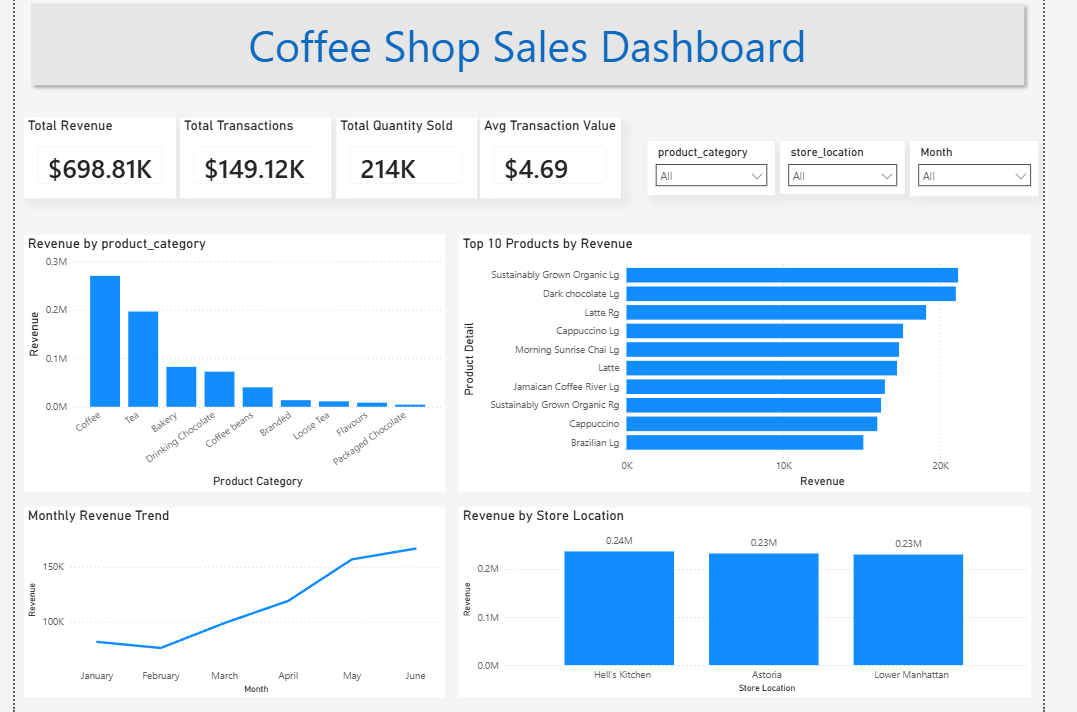

What the dashboard file says about the page in this screenshot:
{"tool":"powerbi","page":{"name":"Page 1","canvas":[1280,900],"ordinal":0},"visuals":[{"type":"cardVisual","title":"Total Revenue","fields":{"Data":["Transactions.Total Revenue"]},"box":[10.9,150.8,189.7,101.1],"z":0},{"type":"cardVisual","title":"Total Transactions","fields":{"Data":["Transactions.Total Transactions"]},"box":[205.6,150.8,188.1,101.1],"z":1000},{"type":"cardVisual","title":"Total Quantity Sold","fields":{"Data":["Transactions.Total Quantity Sold"]},"box":[398.9,150.8,175,101],"z":2000},{"type":"cardVisual","title":"Avg Transaction Value","fields":{"Data":["Transactions.Average Transaction Value"]},"box":[578.9,150.8,175,101],"z":3000},{"type":"clusteredColumnChart","title":"Revenue by product_category","fields":{"Category":["Transactions.product_category"],"Y":["Sum(Transactions.Revenue)"]},"box":[10.6,296.8,524.3,320],"z":4000},{"type":"barChart","title":"Top 10 Products by Revenue","fields":{"Y":["Sum(Transactions.Revenue)"],"Category":["Transactions.product_detail"]},"box":[552,296.8,711.4,320],"z":5000},{"type":"lineChart","title":"Monthly Revenue Trend","fields":{"Y":["Sum(Transactions.Revenue)"],"Category":["Transactions.transaction_date.Variation.Date Hierarchy.Month"]},"box":[10.6,635.4,524.3,237.1],"z":6000},{"type":"clusteredColumnChart","title":"Revenue by Store Location","fields":{"Category":["Transactions.store_location"],"Y":["Sum(Transactions.Revenue)"]},"box":[552,636,712.2,236.4],"z":7000},{"type":"slicer","fields":{"Values":["Transactions.product_category"]},"box":[786.8,180,158.6,66.9],"z":8000},{"type":"slicer","fields":{"Values":["Transactions.store_location"]},"box":[956,180,155.5,65.3],"z":9000},{"type":"shape","title":"Coffee Shop Sales Dashboard","box":[10.9,0,1253.3,119.7],"z":11000},{"type":"slicer","fields":{"Values":["Transactions.Month"]},"box":[1122,180,142,66],"z":11001}]}

Visuals, with their boxes on the page's 1280x900 design canvas (x1, y1, x2, y2). These are canvas units, not pixel positions in the 1077x712 screenshot, which may show the page scaled, cropped or inside an application window:
"Total Revenue" cardVisual: bbox(11, 151, 201, 252)
"Total Transactions" cardVisual: bbox(206, 151, 394, 252)
"Total Quantity Sold" cardVisual: bbox(399, 151, 574, 252)
"Avg Transaction Value" cardVisual: bbox(579, 151, 754, 252)
"Revenue by product_category" clusteredColumnChart: bbox(11, 297, 535, 617)
"Top 10 Products by Revenue" barChart: bbox(552, 297, 1263, 617)
"Monthly Revenue Trend" lineChart: bbox(11, 635, 535, 872)
"Revenue by Store Location" clusteredColumnChart: bbox(552, 636, 1264, 872)
slicer - Transactions.product_category: bbox(787, 180, 945, 247)
slicer - Transactions.store_location: bbox(956, 180, 1112, 245)
"Coffee Shop Sales Dashboard" shape: bbox(11, 0, 1264, 120)
slicer - Transactions.Month: bbox(1122, 180, 1264, 246)
